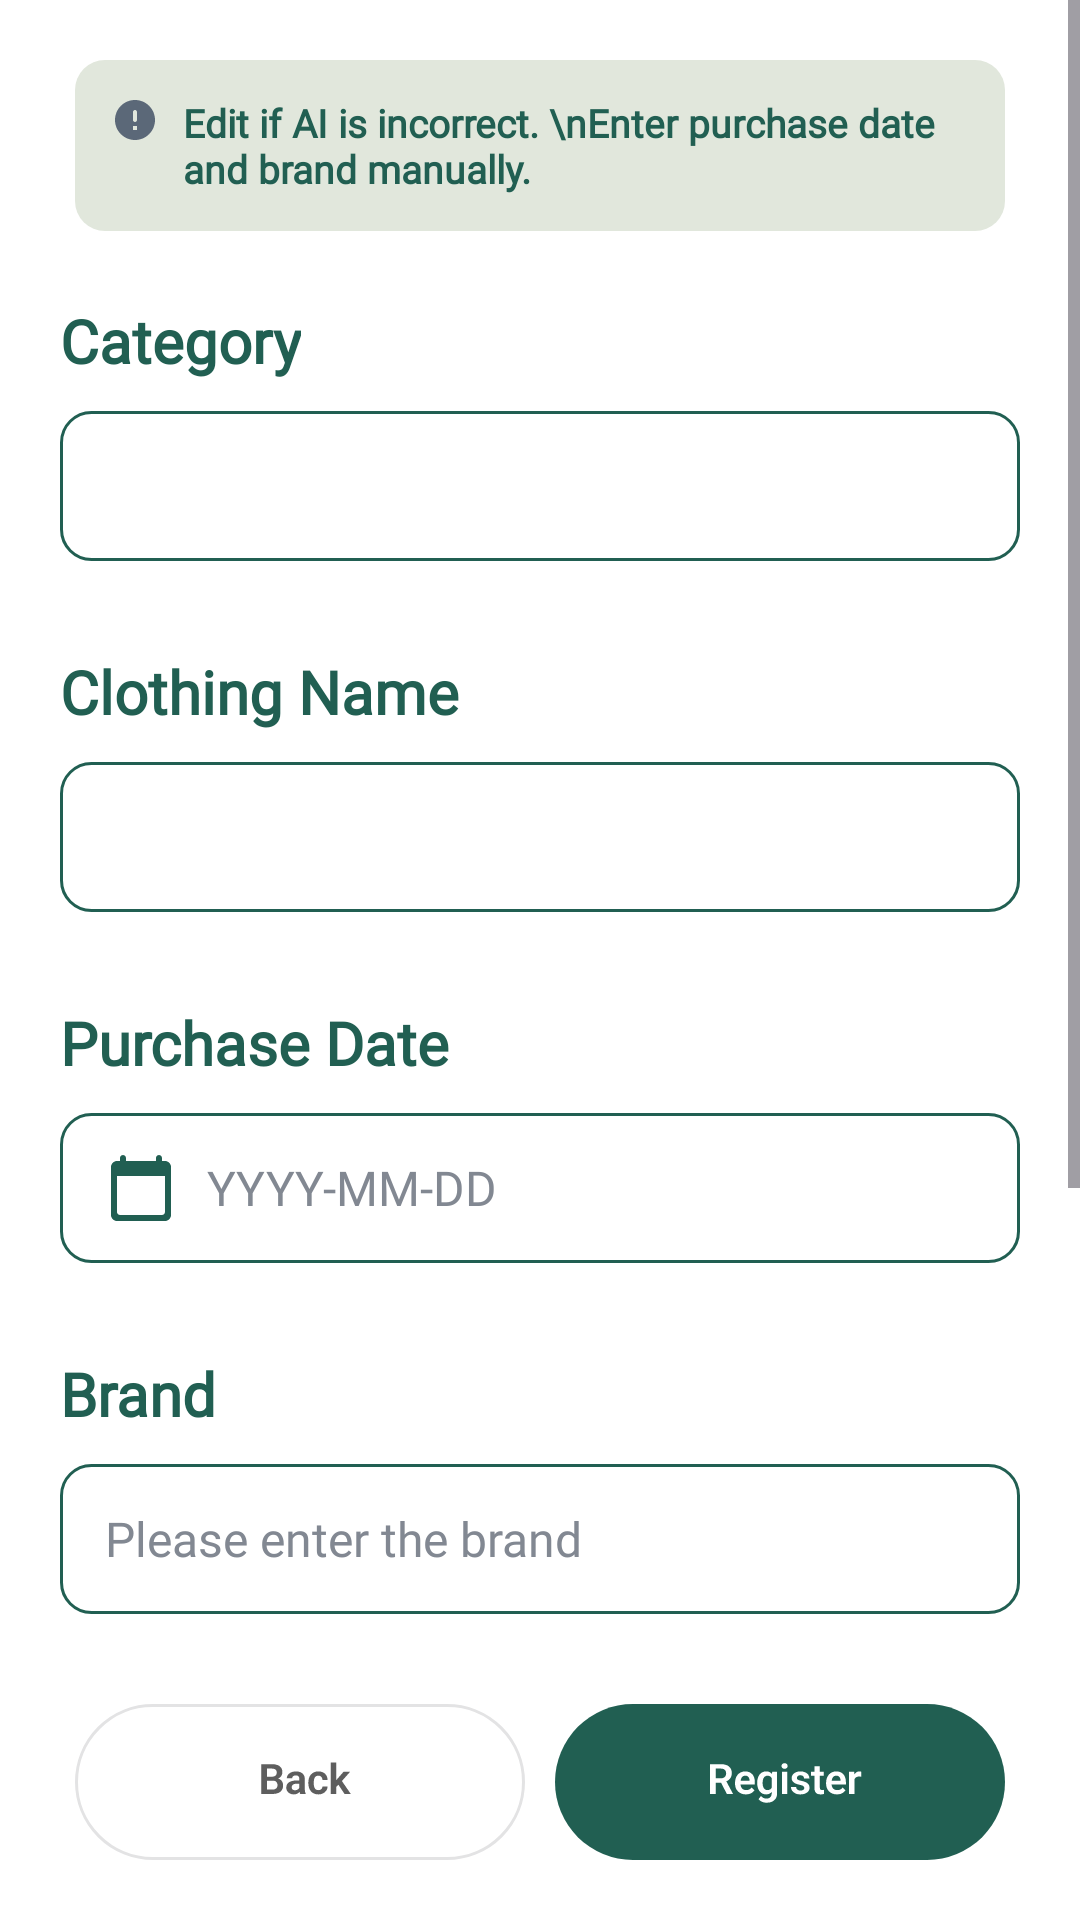

Point at icon controls on the screen. Image size 1080px x 1920px, points as point (x, y).
error: point (135, 120)
